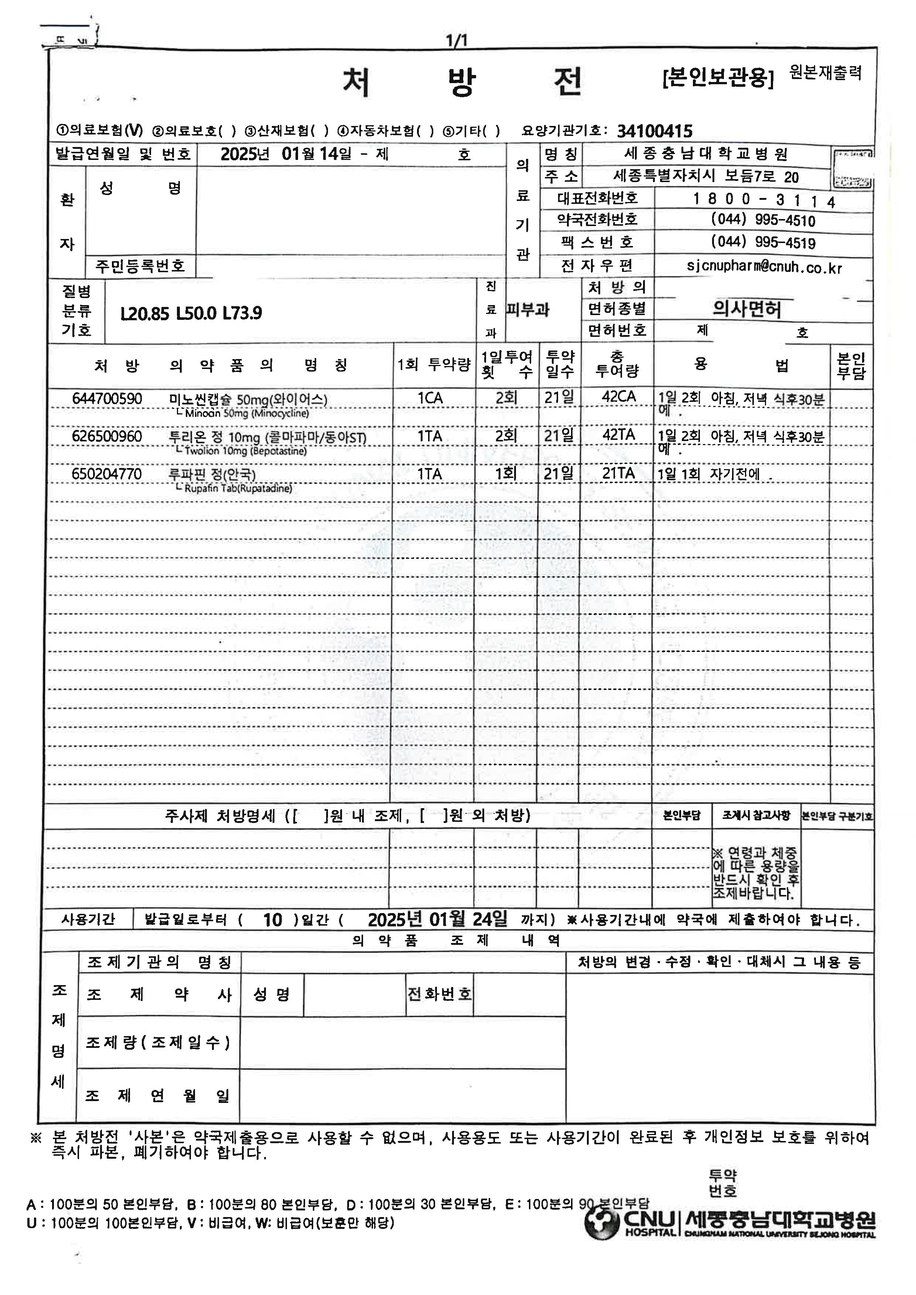row: (32, 932, 567, 1123), (34, 803, 874, 911), (47, 47, 875, 145), (47, 141, 505, 278), (567, 935, 875, 1115), (506, 141, 875, 282), (47, 343, 874, 390), (45, 464, 874, 503), (44, 425, 872, 464), (46, 390, 873, 427), (47, 279, 476, 342), (581, 276, 873, 344), (33, 910, 874, 930), (477, 277, 582, 344)
